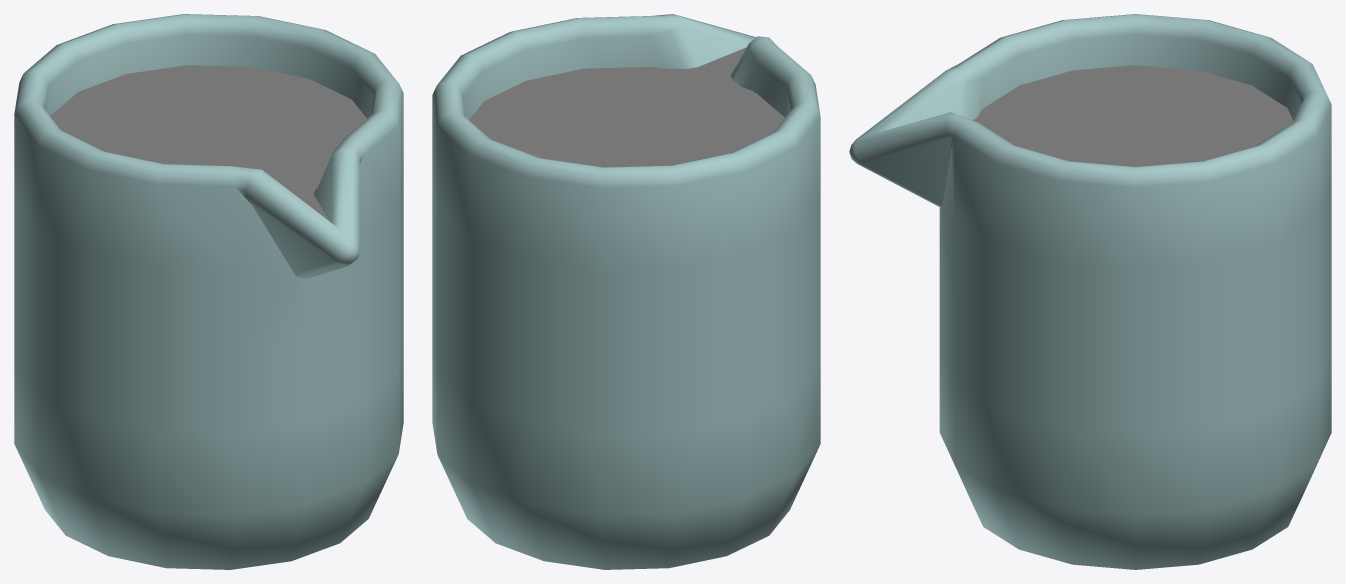
Rendered from LastLuna_Model_Station_Glass_Beaker.fbx.
3 views of the same model, side by side, from view 1: azimuth 30°, elevation 25°; view 2: azimuth 150°, elevation 25°; view 3: azimuth 270°, elevation 25° (orthographic).
Visible parts, largest first — view 1: Beaker001, Beaker_Content001; view 2: Beaker001, Beaker_Content001; view 3: Beaker001, Beaker_Content001.
Part boxes in pixels (box(x1,y1,x2,y2)): Beaker001: box(14, 14, 403, 569); Beaker_Content001: box(50, 65, 366, 220); Beaker001: box(432, 14, 820, 569); Beaker_Content001: box(469, 47, 784, 167); Beaker001: box(849, 14, 1331, 569); Beaker_Content001: box(973, 65, 1293, 166).
Size of the model in its own units: 65 by 80 by 80.
